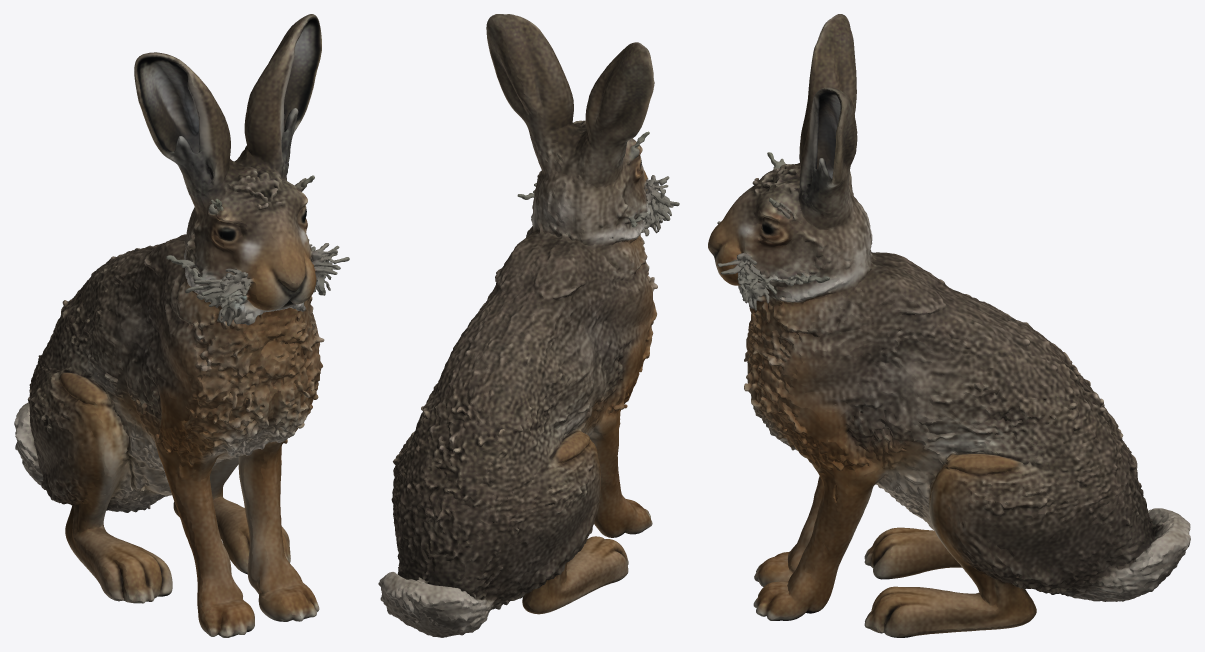
File: task-4902694.glb
3 views of the same model, side by side, from view 1: azimuth 30°, elevation 25°; view 2: azimuth 150°, elevation 25°; view 3: azimuth 270°, elevation 25° (orthographic). The views are drawn at different scales.
Visible parts, largest first — view 1: world; view 2: world; view 3: world.
Boxes of the visible parts, x1,y1,x2,y2 form: world: (14, 14, 349, 637); world: (378, 14, 679, 637); world: (708, 14, 1190, 637).
Size of the model in its own units: 0.2551 by 0.7 by 0.561.
Materials: 1 (1 with a texture image).
